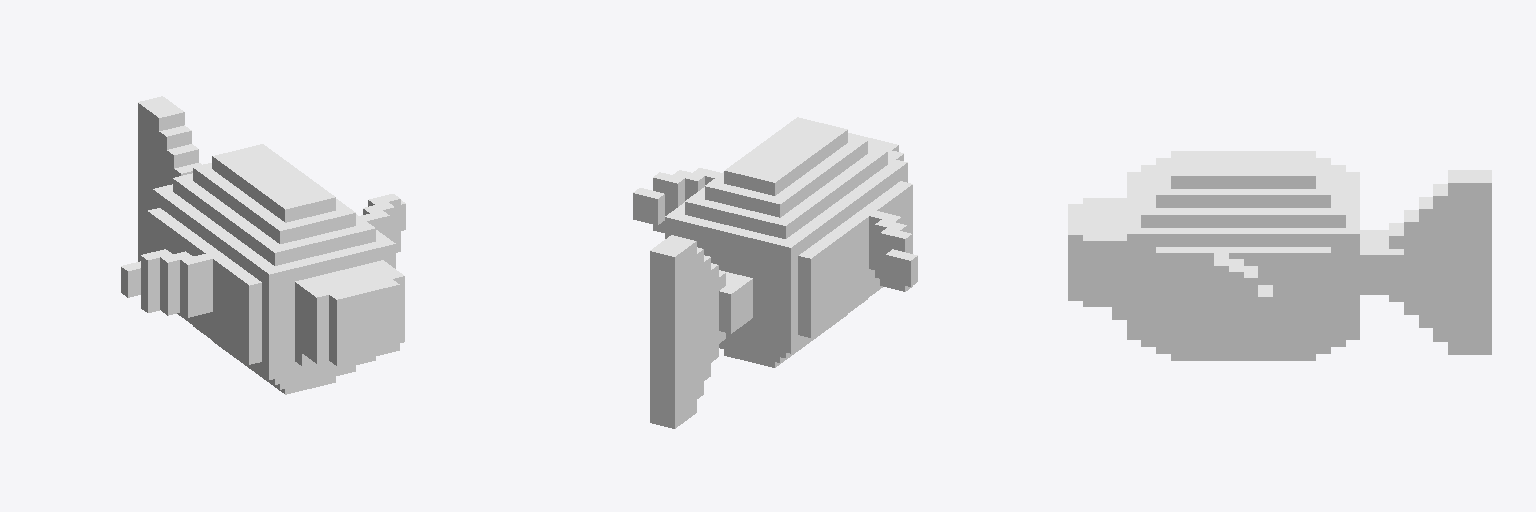
File: precado.obj
3 views of the same model, side by side, from view 1: azimuth 30°, elevation 25°; view 2: azimuth 150°, elevation 25°; view 3: azimuth 270°, elevation 25° (orthographic).
Visible parts, largest first — view 1: object 1; view 2: object 1; view 3: object 1.
Boxes of the visible parts, box(x1,y1,x2,y2) form: object 1: box(121, 96, 405, 394); object 1: box(633, 117, 917, 428); object 1: box(1068, 151, 1491, 360).
Size of the model in its own units: 2.2 by 1.4 by 2.9.